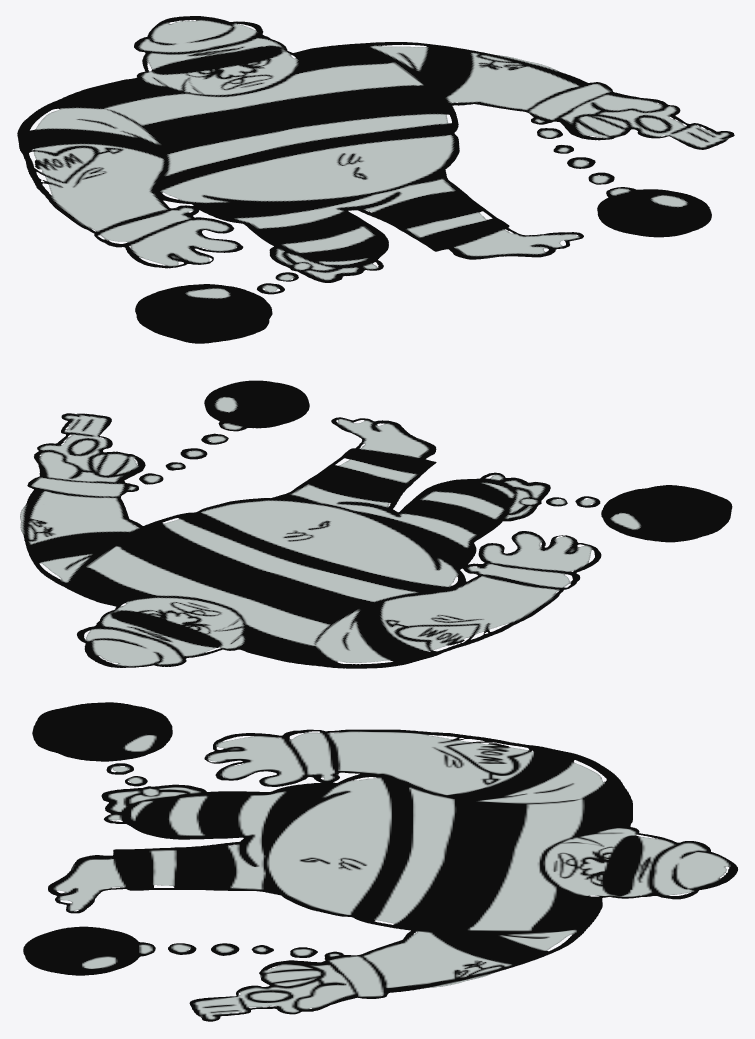
Rendered from Idle 2.fbx.
The picture shows the model from 3 angles, top to bottom: view 1: azimuth 30°, elevation 25°; view 2: azimuth 150°, elevation 25°; view 3: azimuth 270°, elevation 25°; orthographic projection. The views are drawn at different scales.
Parts seen in each view (by area): view 1: Curve.002; view 2: Curve.002; view 3: Curve.002.
Part boxes in pixels (x1=…): Curve.002: x1=17, y1=16, x2=734, y2=343; Curve.002: x1=20, y1=380, x2=732, y2=668; Curve.002: x1=23, y1=702, x2=737, y2=1021.
Size of the model in its own units: 99.16 by 0 by 93.87.
